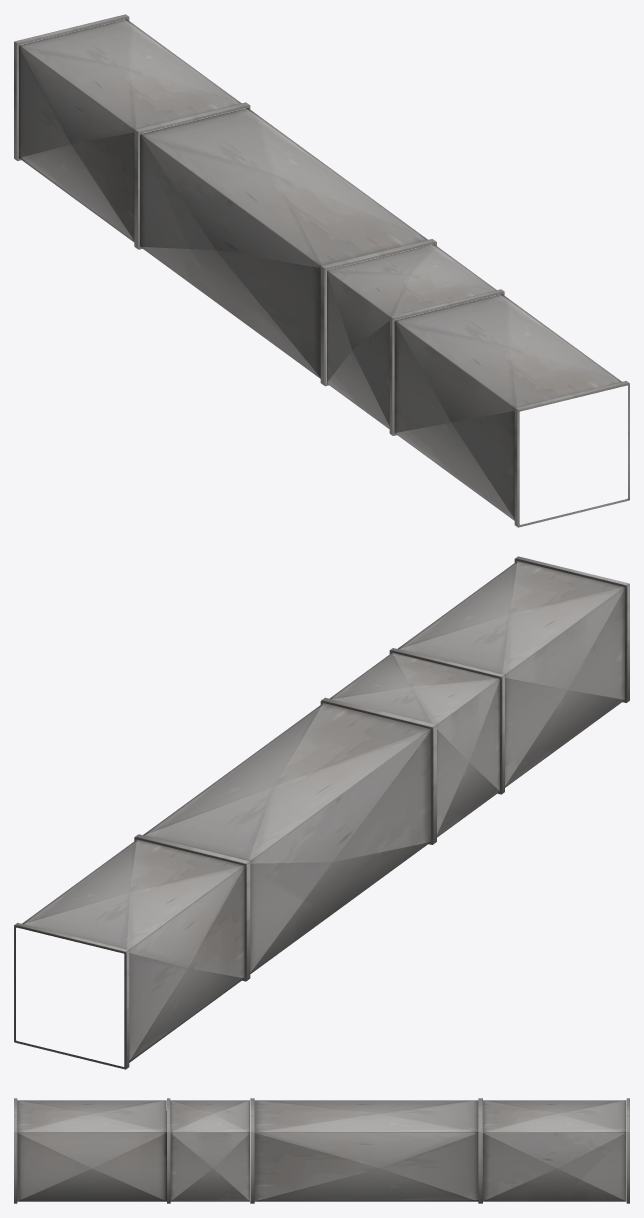
3 views of the same model, one above another, from view 1: azimuth 30°, elevation 25°; view 2: azimuth 150°, elevation 25°; view 3: azimuth 270°, elevation 25° (orthographic). The views are drawn at different scales.
Visible parts, largest first — view 1: body0_model0_lod0_mesh0; view 2: body0_model0_lod0_mesh0; view 3: body0_model0_lod0_mesh0.
Boxes of the visible parts, bbox=[...] form: body0_model0_lod0_mesh0: bbox=[14, 14, 629, 527]; body0_model0_lod0_mesh0: bbox=[14, 556, 629, 1069]; body0_model0_lod0_mesh0: bbox=[14, 1098, 629, 1203].
Bounding box in the file's own units: 34.5 × 34.5 × 257.
Materials: 1 (1 with a texture image).
